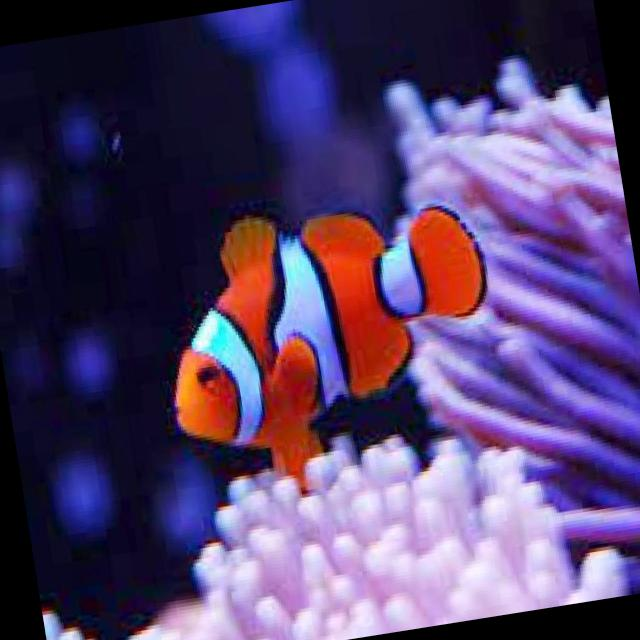ClownFish: (140, 173, 512, 499)
